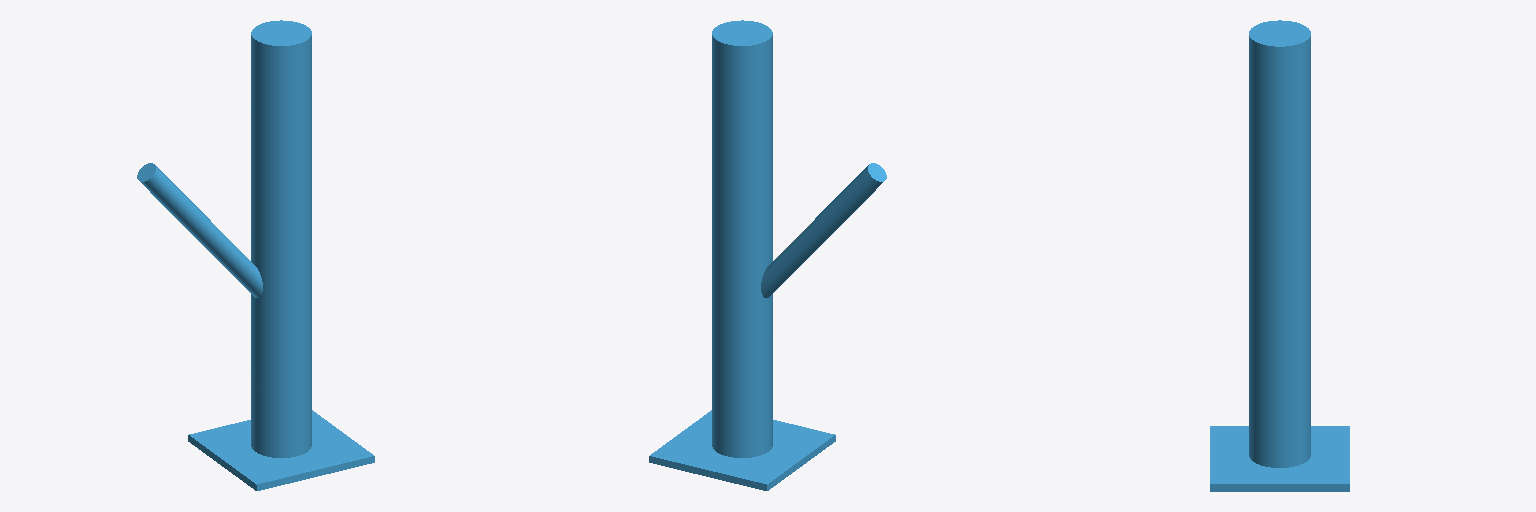
robot.urdf — table.urdf:
<?xml version="0.0" ?>
<robot name="table.urdf">
  <link name="baseLink">
    <contact>
      <lateral_friction value="1.0"/>
    </contact>
    <inertial>
      <origin rpy="0 0 0" xyz="0 0 0"/>
       <mass value=".0"/>
       <inertia ixx="1" ixy="0" ixz="0" iyy="1" iyz="0" izz="1"/>
    </inertial>
    <visual>
      <origin rpy="0 0 0" xyz="0 0 0.6"/>
      <geometry>
				<mesh filename="table.obj" scale="1.5 1 0.05"/>
      </geometry>
       <material name="white">
        <color rgba="1 1 1 1"/>
      </material>
    </visual>
    <collision>
      <origin rpy="0 0 0" xyz="0 0 0.6"/>
      <geometry>
	 	<box size="1.5 1 0.05"/>
      </geometry>
    </collision>
	<visual>
      <origin rpy="0 0 0" xyz="-0.65 -0.4 0.29"/>
      <geometry>
	    <mesh filename="table.obj" scale="0.1 0.1 0.58"/>
      </geometry>
	  <material name="framemat0"/>	 
    </visual>
    <visual>
      <origin rpy="0 0 0" xyz="-0.65 0.4 0.29"/>
      <geometry>
        <mesh filename="table.obj" scale="0.1 0.1 0.58"/>
      </geometry>
	  <material name="framemat0"/>
	  </visual>
    <visual>
      <origin rpy="0 0 0" xyz="0.65 -0.4 0.29"/>
      <geometry>
        <mesh filename="table.obj" scale="0.1 0.1 0.58"/>
      </geometry>
	  <material name="framemat0"/>
	  </visual>
    <visual>
      <origin rpy="0 0 0" xyz="0.65 0.4 0.29"/>
      <geometry>
        <mesh filename="table.obj" scale="0.1 0.1 0.58"/>
      </geometry>
    </visual>
  </link>
  <joint name="table2rack" type="fixed">
    <parent link="baseLink"/>
    <child link="rack"/>
    <origin rpy="0 0 3.1415" xyz="0.3 -0.1 0.635"/> 
  </joint>
  <link concave="yes" name="rack">
    <visual>
      <origin rpy="0 0 0" xyz="0 0 0"/>
      <geometry>
        <mesh filename="simple_rack.obj" scale="1.0 1.0 1.0"/>
      </geometry>
      <material name="Ivory"/>
    </visual>
    <collision>
      <origin rpy="0 0 0" xyz="0 0 0"/>
      <geometry>
        <mesh filename="simple_rack.obj" scale="1.0 1.0 1.0"/>
      </geometry>
    </collision>
    <contact>
      <lateral_friction value="0.2"/>
    </contact>
  </link>
  <!-- <joint name="table2shelf" type="fixed">
    <parent link="baseLink"/>
    <child link="shelf"/>
    <origin rpy="0 0 -1.57" xyz="-0.5 0.125 0.625"/>
  </joint>
  <link name="shelf">
    <visual>
      <origin rpy="0 0 0" xyz="0 0 0"/>
      <geometry>
        <mesh filename="shelf_back.stl" scale="0.75 0.75 0.5"/>
      </geometry>
      <material name="Ivory"/>
    </visual>
    <collision>
      <origin rpy="0 0 0" xyz="0 0 0"/>
      <geometry>
        <mesh filename="shelf_back.stl" scale="0.75 0.75 0.5"/>
      </geometry>
    </collision>
    <contact>
      <lateral_friction value="0.2"/>
    </contact>
  </link> -->
</robot>

--- Facts derived from the render (not from the file) ---
3 views of the same robot in one strip: view 1: azimuth 30°, elevation 25°; view 2: azimuth 150°, elevation 25°; view 3: azimuth 270°, elevation 25° (orthographic).
Model table.urdf with 2 links and 1 joints (1 fixed), rooted at baseLink, posed every joint at zero.
Visible links, largest first — view 1: rack; view 2: rack; view 3: rack.
Boxes of the visible links, x1=… form: rack: x1=137, y1=20, x2=374, y2=490; rack: x1=649, y1=20, x2=886, y2=490; rack: x1=1210, y1=20, x2=1349, y2=491.
Bounding box of the posed robot: 0.1951 × 0.1143 × 0.3874 m (x, y, z).
Meshes: 2 distinct files referenced, 1 mesh visuals loaded (1 OBJ); not drawn: 5 (reference not matched to a file when rendering).